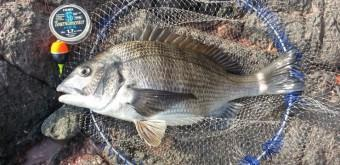fish: (56, 25, 304, 147)
